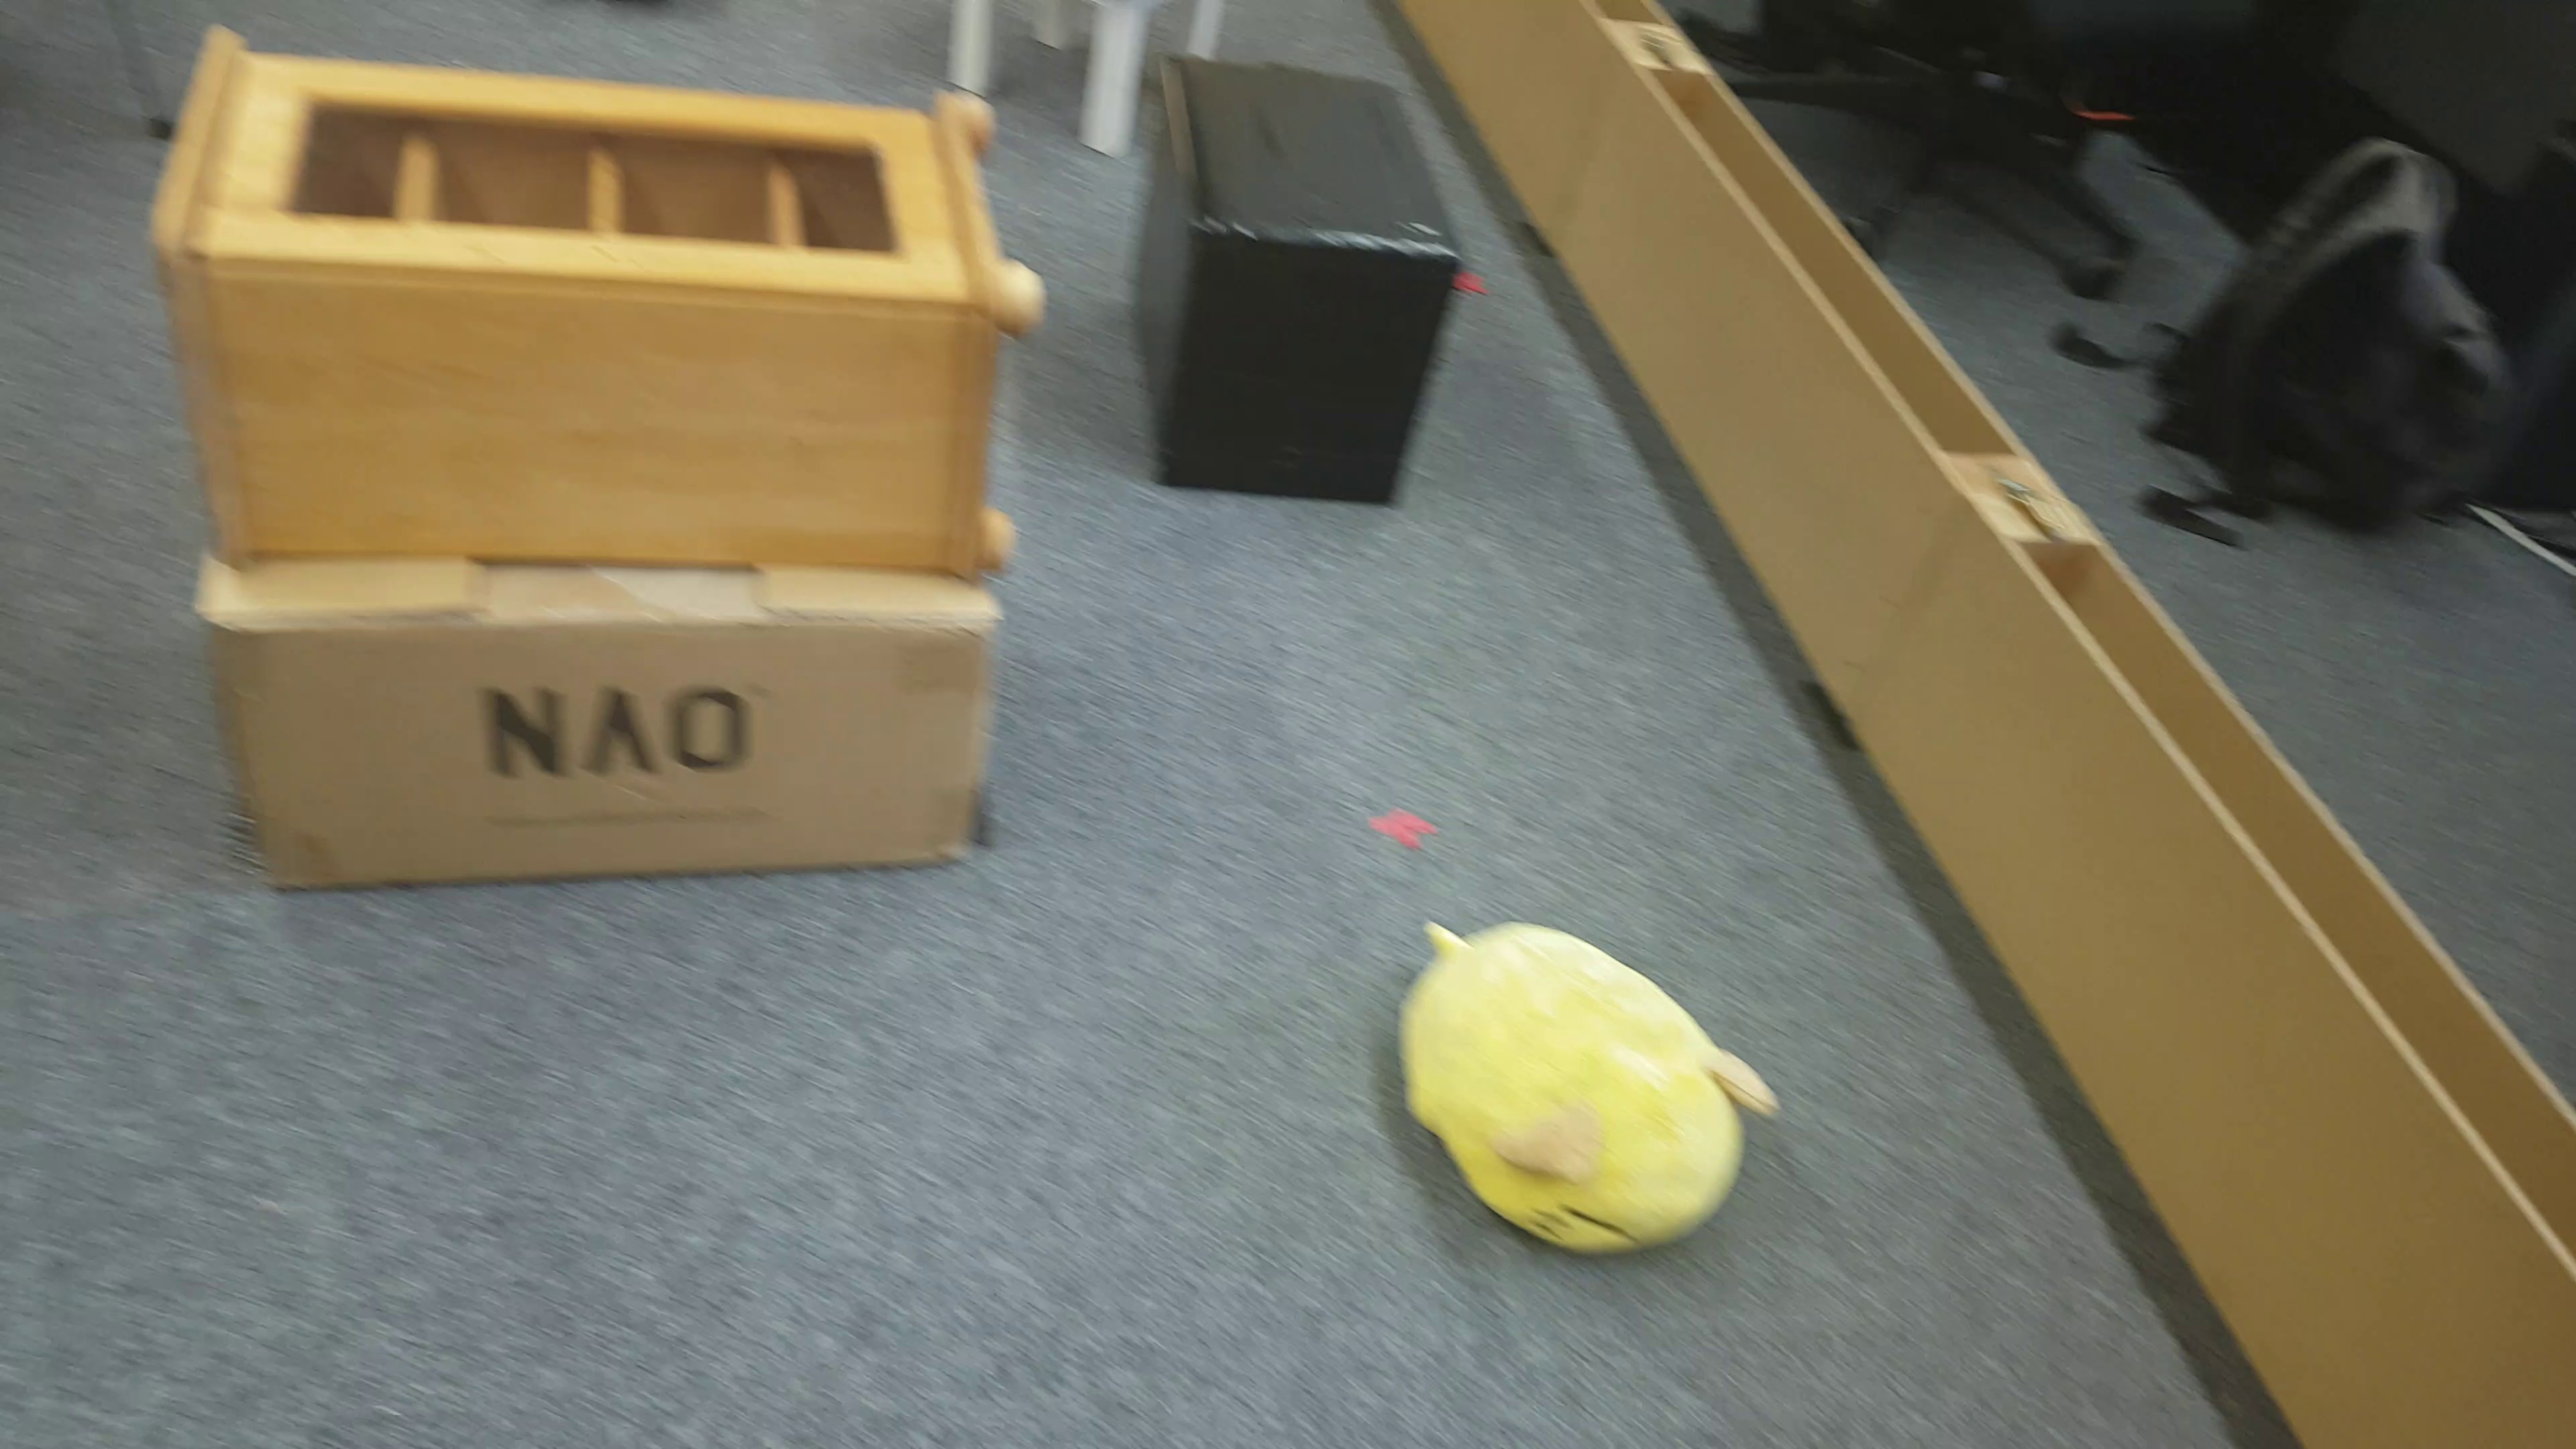grasp: (1399, 909, 1746, 1253)
push: (1125, 58, 1461, 501)
